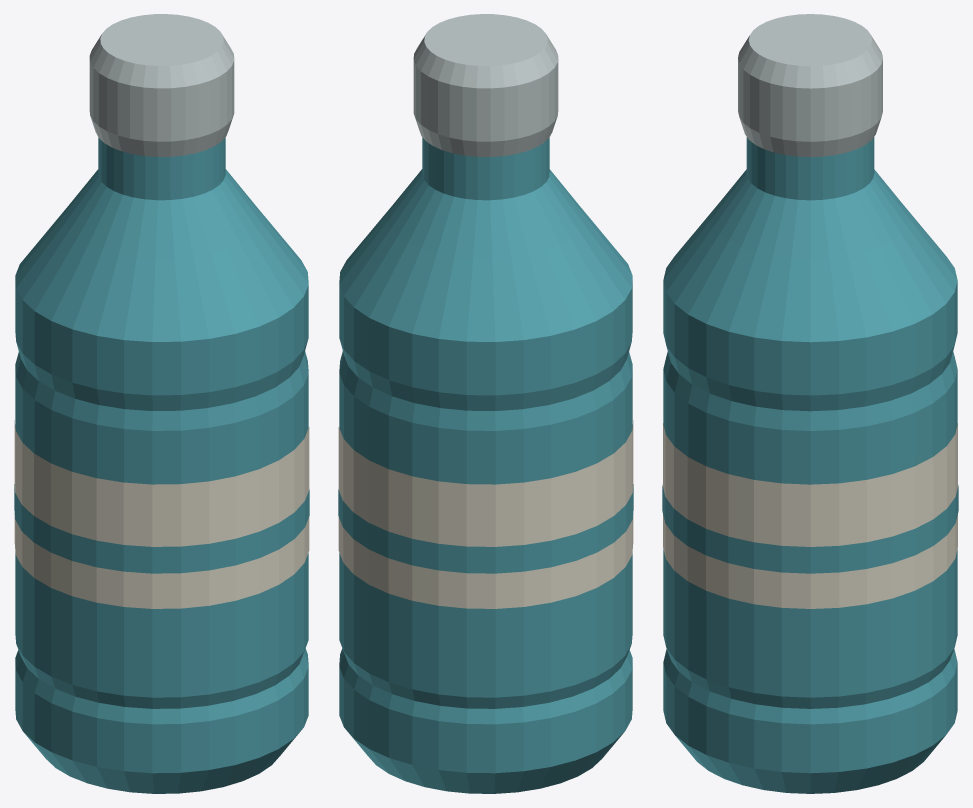
File: water-bottle.glb
3 renders of one model, left to right at view 1: azimuth 30°, elevation 25°; view 2: azimuth 150°, elevation 25°; view 3: azimuth 270°, elevation 25°, orthographic.
Visible parts, largest first — view 1: water-bottle; view 2: water-bottle; view 3: water-bottle.
Boxes of the visible parts, bbox=[...] form: water-bottle: bbox=[14, 14, 309, 793]; water-bottle: bbox=[338, 14, 633, 793]; water-bottle: bbox=[662, 14, 958, 793].
Size of the model in its own units: 0.302 by 0.79 by 0.302.
